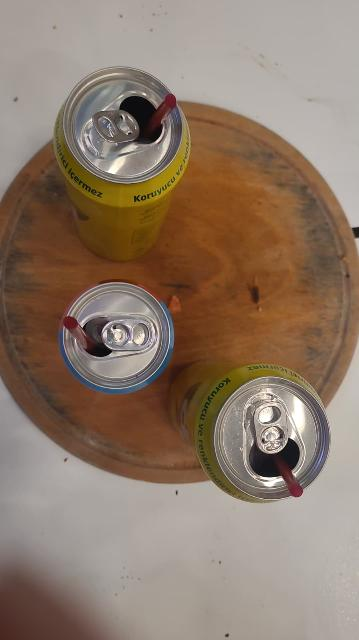Metal: (52, 65, 196, 262), (172, 355, 335, 506), (63, 279, 178, 395)
Plastik: (136, 87, 177, 143), (275, 450, 306, 505), (61, 313, 91, 354)
